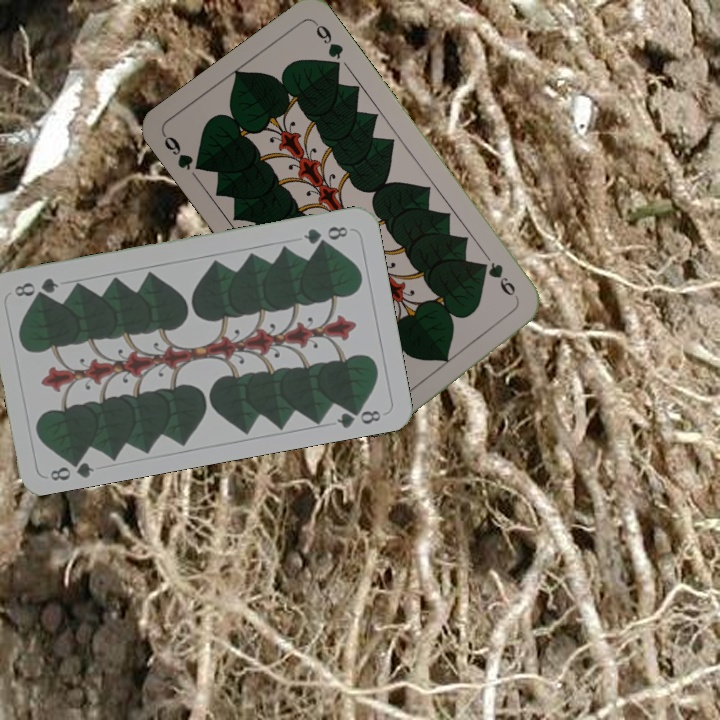G8: (46, 452, 97, 484), (299, 222, 351, 248)
G9: (476, 258, 522, 305), (159, 130, 208, 174)
